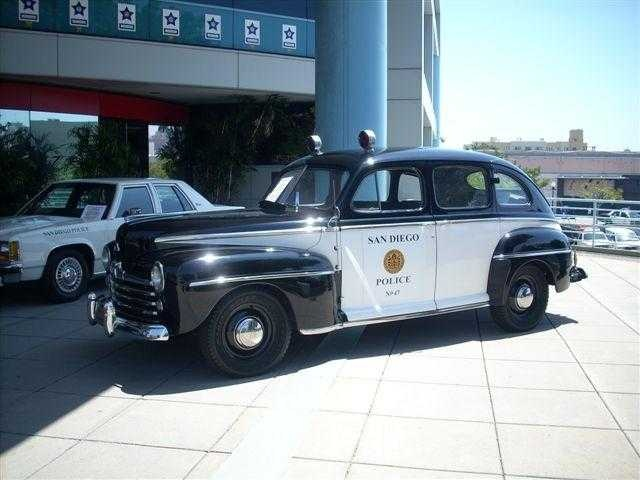Police Car: (69, 137, 575, 353)
